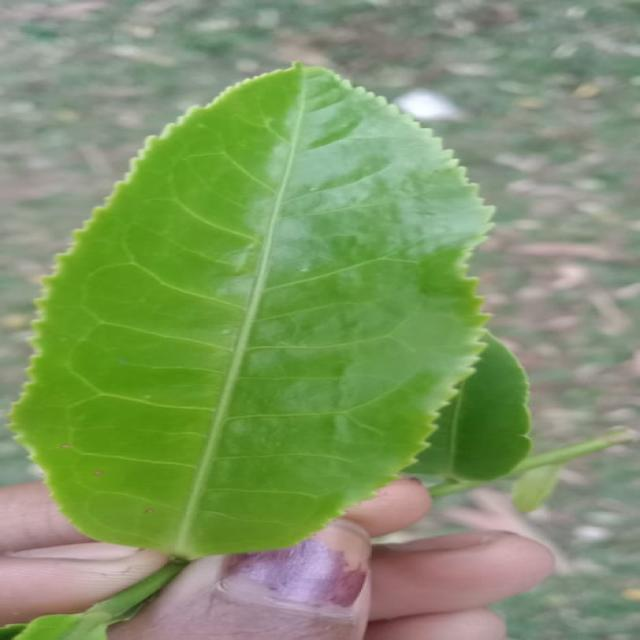Category B 2-4 days: (34, 58, 506, 570)
